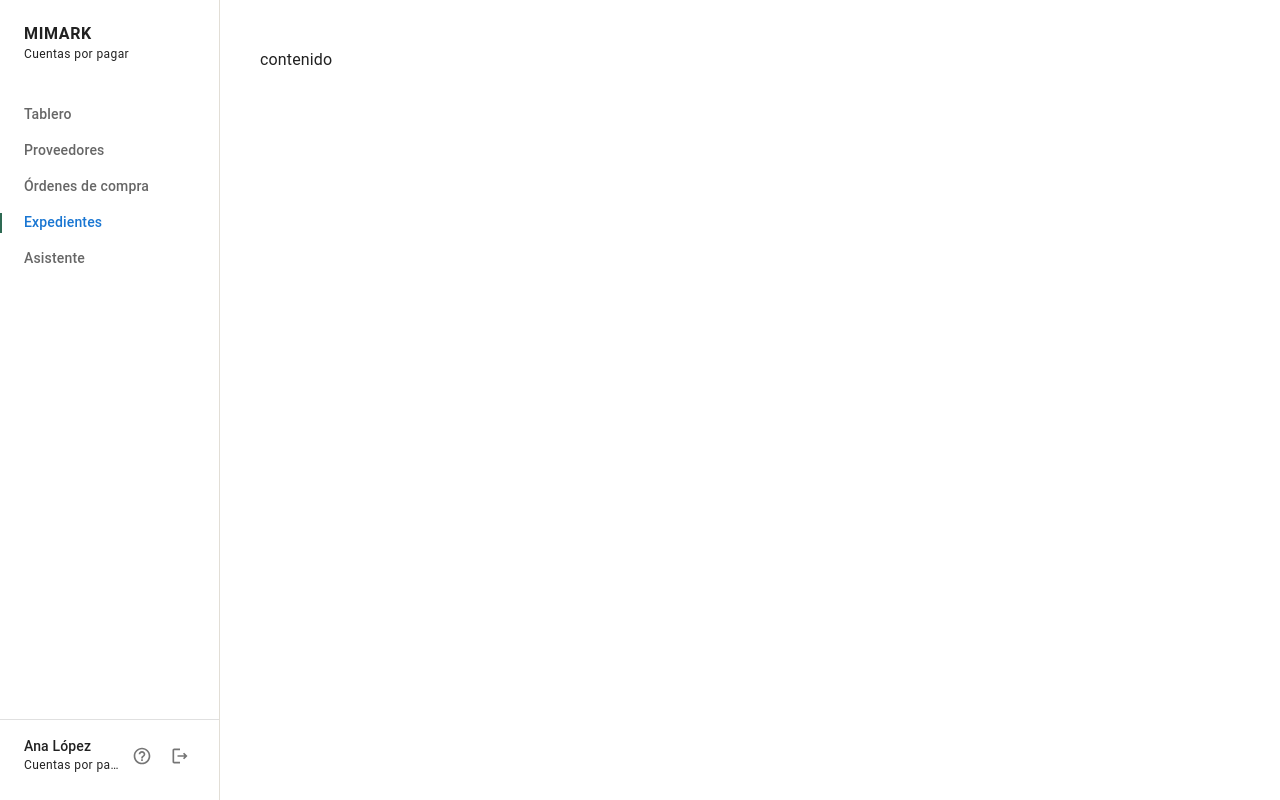
Test: AppShell › AC-012-04 «Ver tutorial» de la barra lateral lo abre aunque ya lo haya visto
Click the button named "Ver tutorial": (142, 756) x1=127 y1=741 x2=157 y2=771
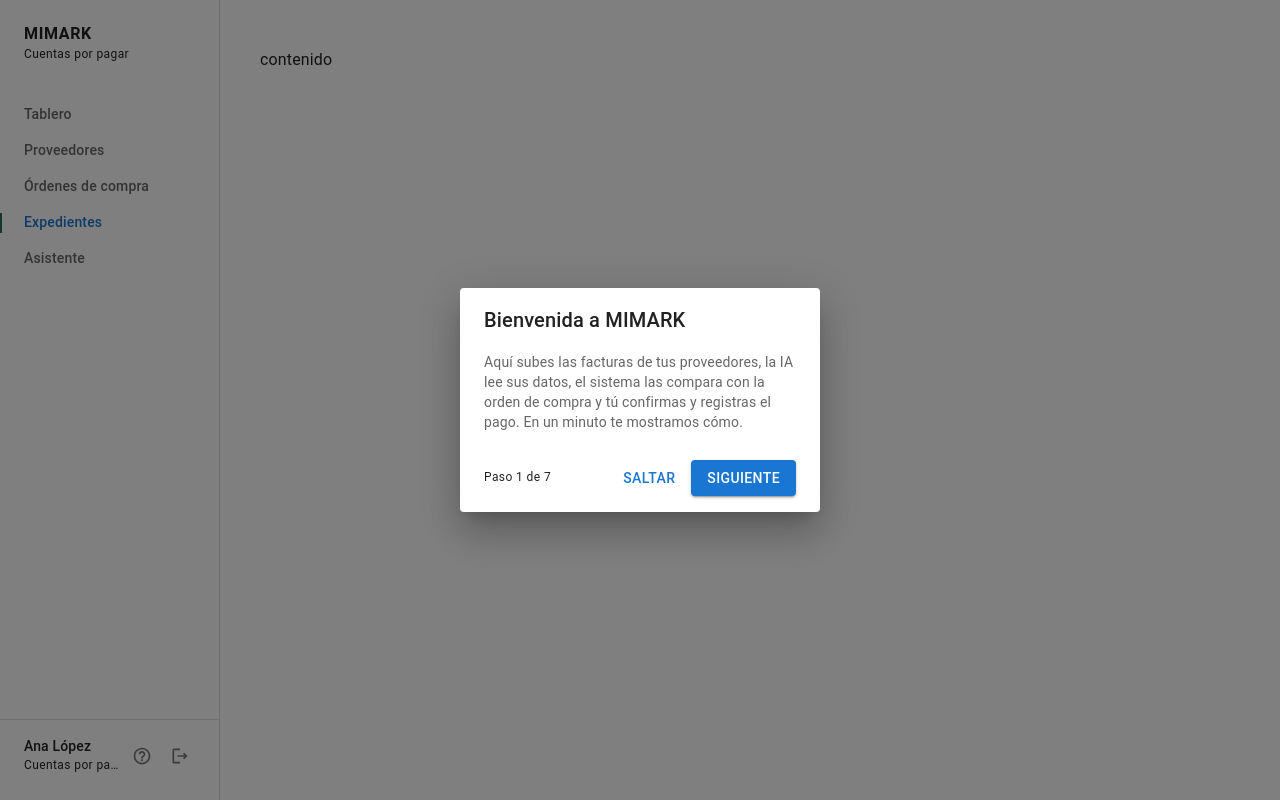
Now the dialog "Bienvenida a MIMARK" is shown, box x1=460 y1=288 x2=820 y2=512
